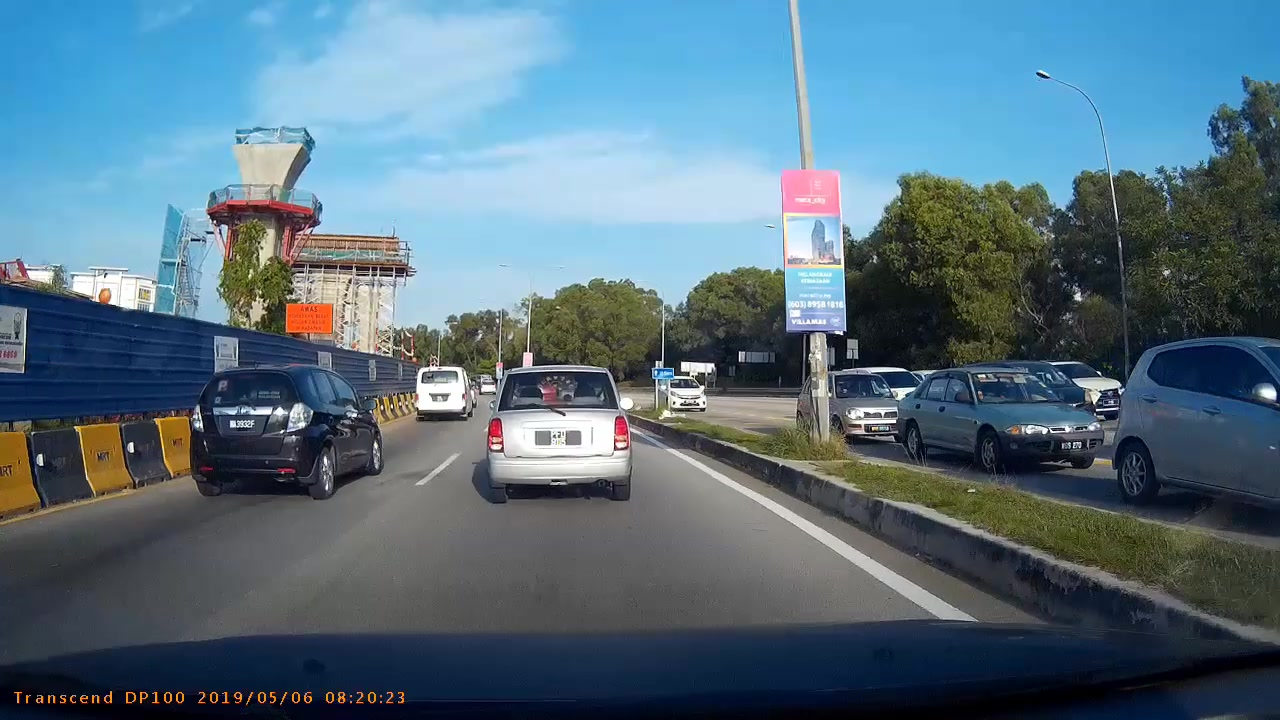license-plate: (550, 430, 566, 446), (229, 420, 254, 427)
